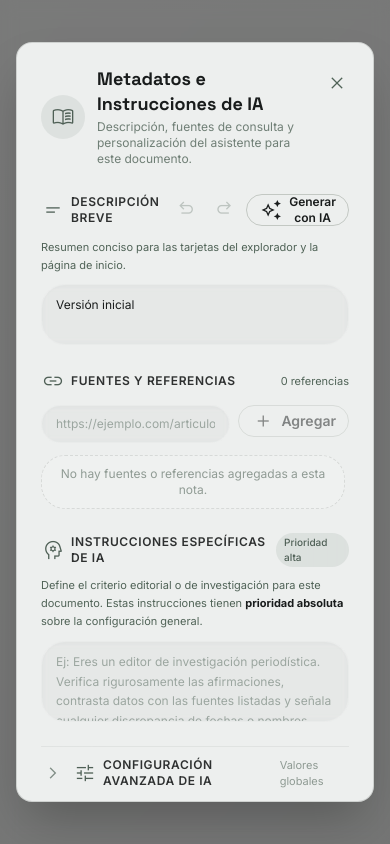
NoteReferencesModal › handles undo and redo for description
Expected: the button named "Deshacer" is disabled, [170, 191, 202, 229]
Expected: the button named "Rehacer" is disabled, [208, 191, 240, 229]
Edit description
Replace the text in the 1st text box with "Versión modificada": (195, 315) [41, 284, 349, 346]
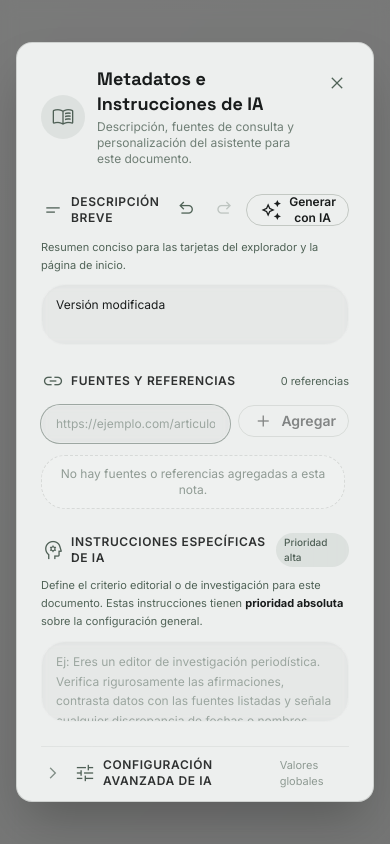
Expected: the button named "Rehacer" is disabled, [208, 191, 240, 229]
Result: the button named "Deshacer" is enabled
Click the button named "Deshacer": (186, 210) [170, 191, 202, 229]
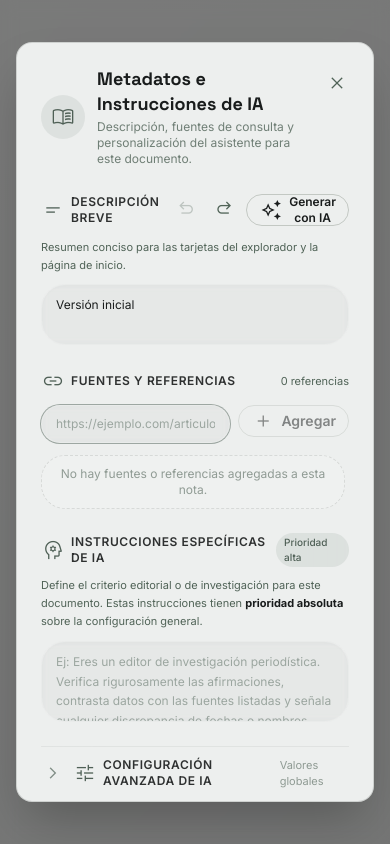
Result: the 1st text box holds "Versión inicial" at [41, 284, 349, 346]
Result: the button named "Deshacer" is disabled at [170, 191, 202, 229]
Result: the button named "Rehacer" is enabled
Click the button named "Rehacer": (224, 210) [208, 191, 240, 229]
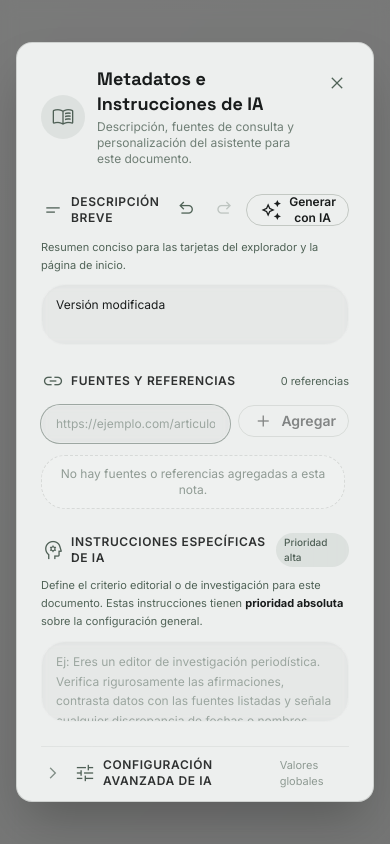
Result: the button named "Deshacer" is enabled at [170, 191, 202, 229]
Result: the button named "Rehacer" is disabled at [208, 191, 240, 229]
